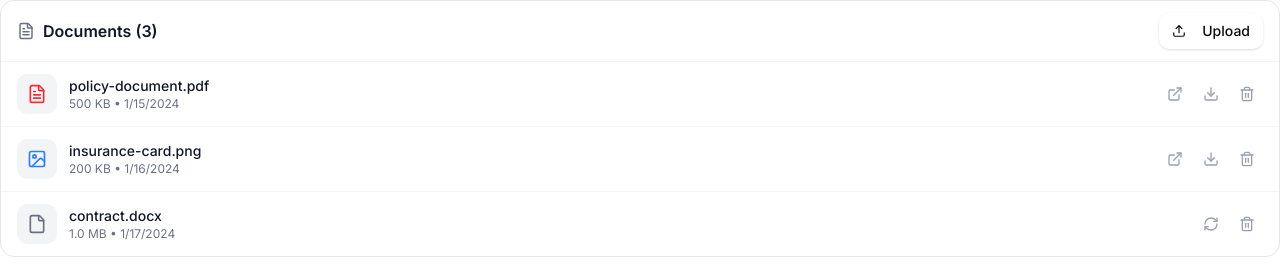
it: PolicyDocuments › Delete Confirmation › should show confirmation state on first delete click
Click the button titled "Delete" in the row of "policy-document.pdf" at (1247, 94), box [1231,78,1263,110]
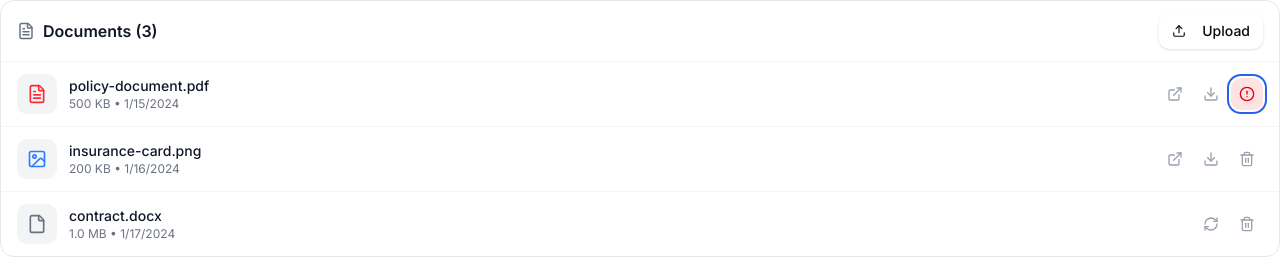
Result: the button titled "Click again to confirm" is shown at [1231,78,1263,110]
